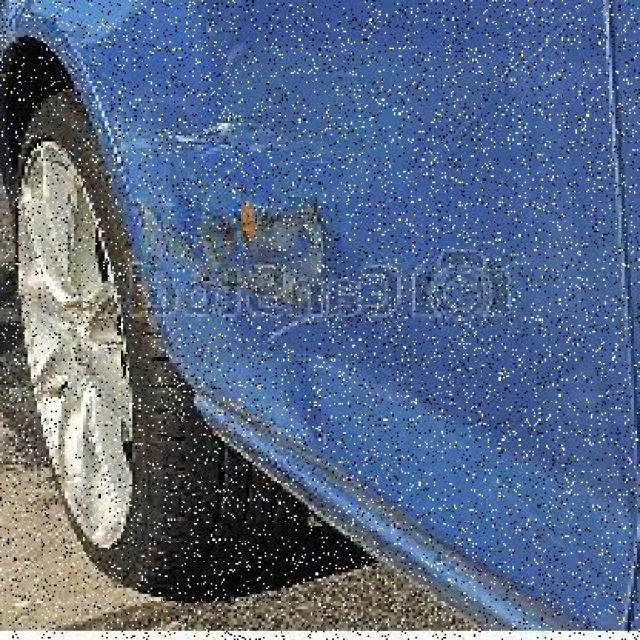car damage: (185, 194, 343, 317)
